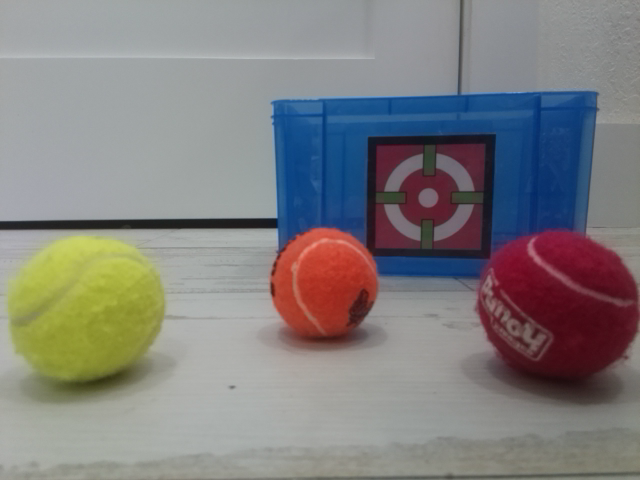drop-bin: (365, 133, 496, 260)
orange-ball: (270, 225, 380, 340)
red-ball: (476, 227, 640, 386)
yellow-ball: (6, 234, 165, 384)
